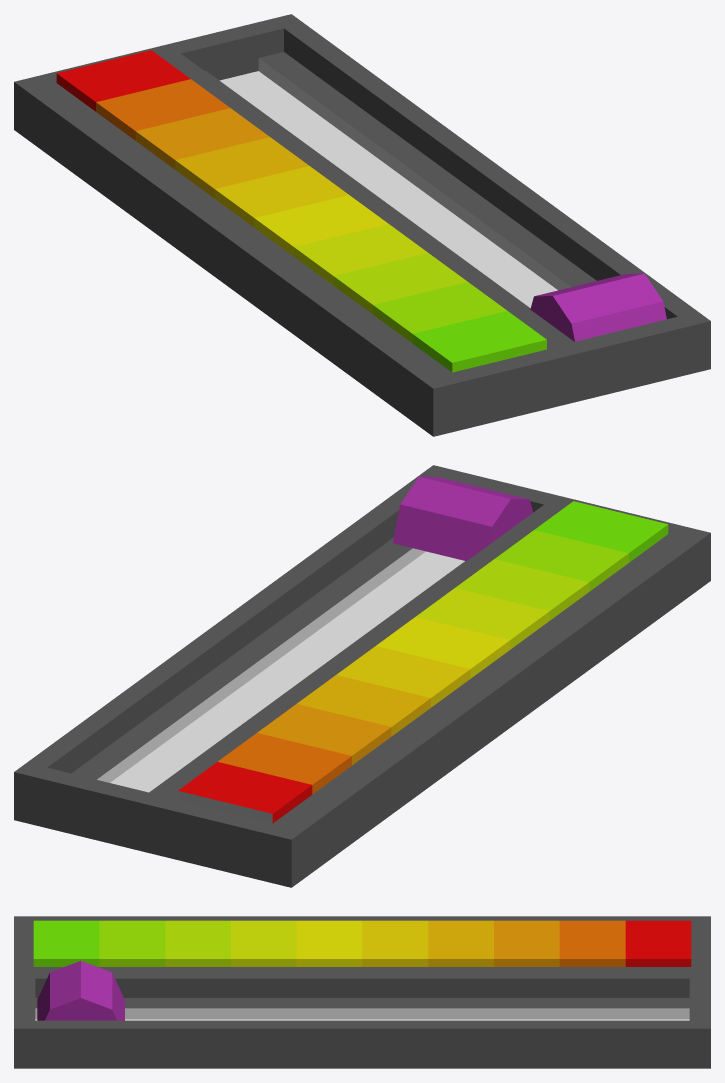
Rendered from ZeppelinAccelerationSystemV2.fbx.
3 views of the same model, one above another, from view 1: azimuth 30°, elevation 25°; view 2: azimuth 150°, elevation 25°; view 3: azimuth 270°, elevation 25° (orthographic). The views are drawn at different scales.
Visible parts, largest first — view 1: AccelerationSystem, AccelerationSlider; view 2: AccelerationSystem, AccelerationSlider; view 3: AccelerationSystem, AccelerationSlider.
Boxes of the visible parts, x1,y1,x2,y2 form: AccelerationSystem: [14, 14, 710, 436]; AccelerationSlider: [530, 273, 666, 341]; AccelerationSystem: [14, 465, 710, 887]; AccelerationSlider: [393, 476, 533, 561]; AccelerationSystem: [14, 916, 710, 1068]; AccelerationSlider: [37, 961, 124, 1020].
Size of the model in its own units: 6.04 by 1.51 by 15.81.
